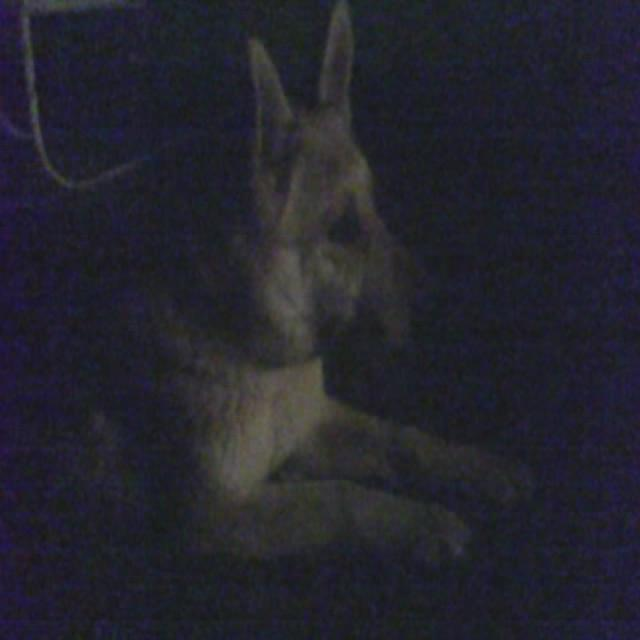dog: (6, 4, 520, 602)
